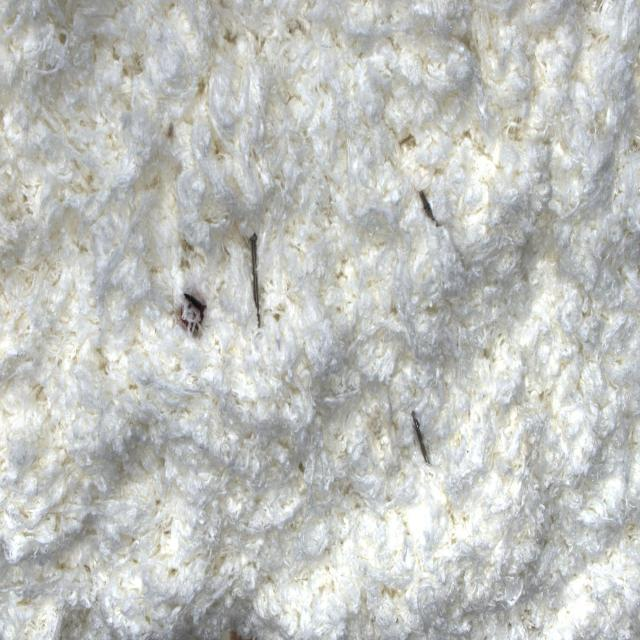dust: (168, 254, 218, 379), (237, 208, 271, 357), (399, 390, 446, 486), (417, 184, 443, 234)
